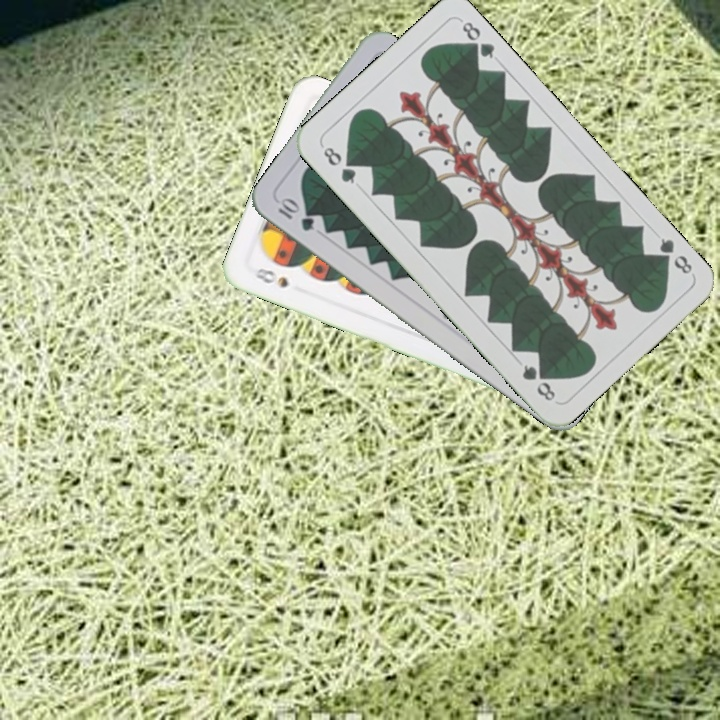G10: (272, 194, 317, 234)
G8: (317, 141, 359, 187), (651, 234, 695, 277)
S8: (250, 264, 291, 291)
